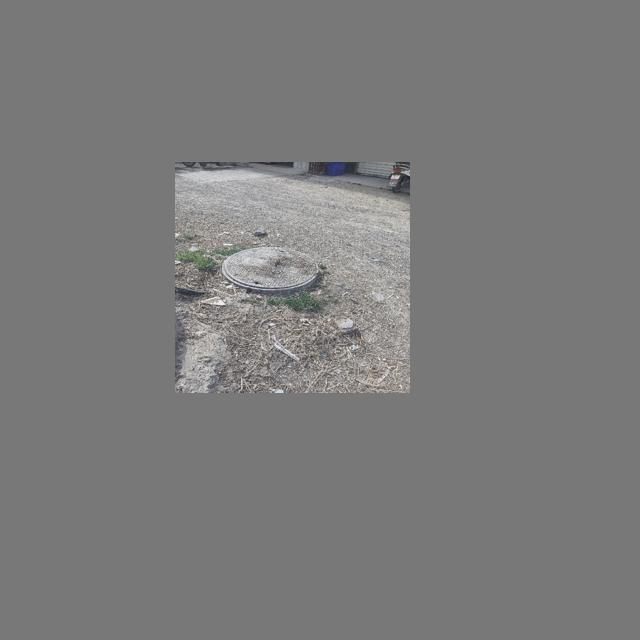good: (221, 247, 319, 290)
